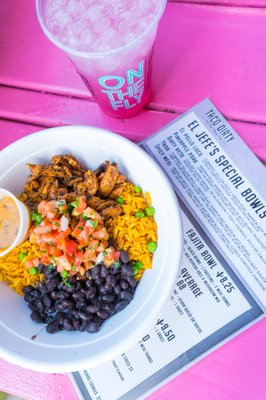pizza: (35, 0, 169, 120)
sushi: (0, 130, 183, 372)
